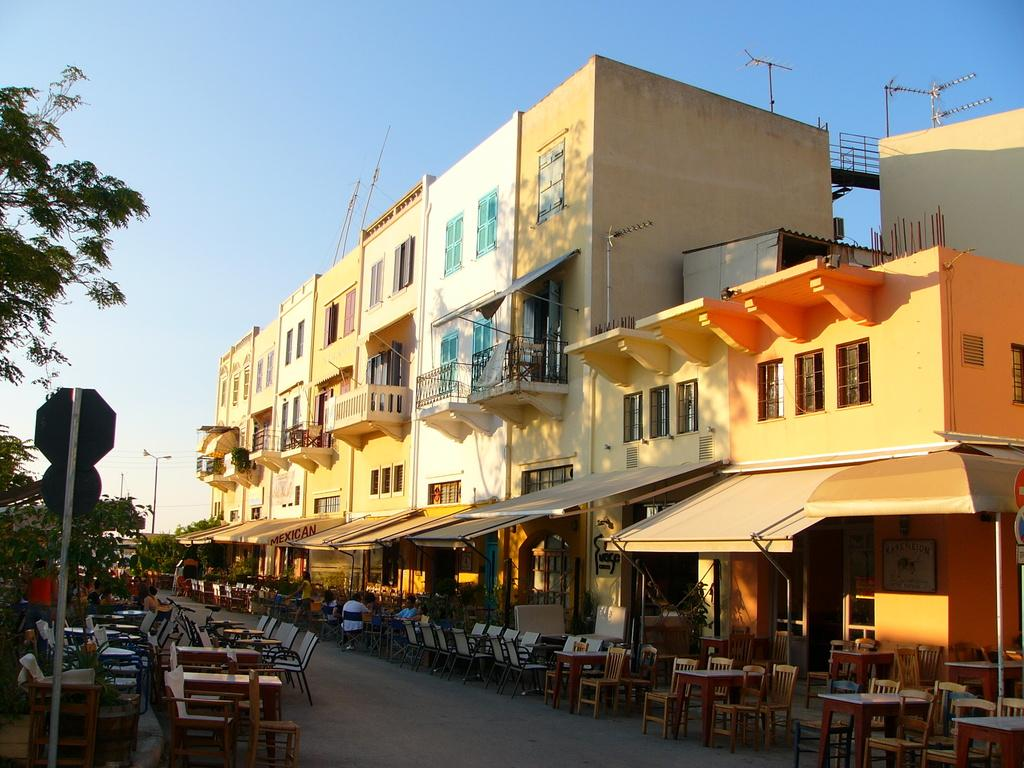Chair: (388, 619, 540, 693), (150, 665, 243, 767), (15, 659, 103, 764), (236, 665, 303, 767), (865, 686, 938, 767), (922, 698, 996, 764), (710, 664, 768, 748), (641, 651, 695, 735), (748, 661, 800, 740), (576, 643, 630, 714), (790, 719, 854, 767), (266, 637, 313, 702), (497, 640, 550, 696), (698, 659, 735, 724), (891, 640, 940, 685), (764, 628, 794, 664)
